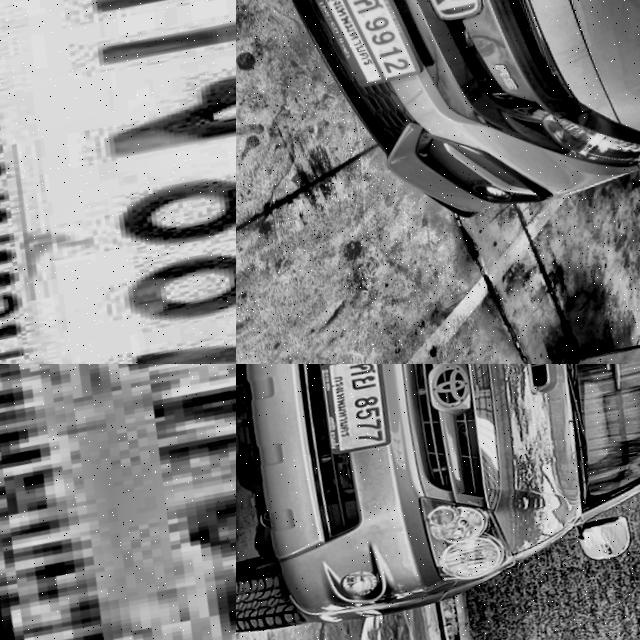license-plate: (0, 0, 236, 364), (0, 364, 236, 640), (290, 0, 447, 99), (309, 364, 416, 460)
